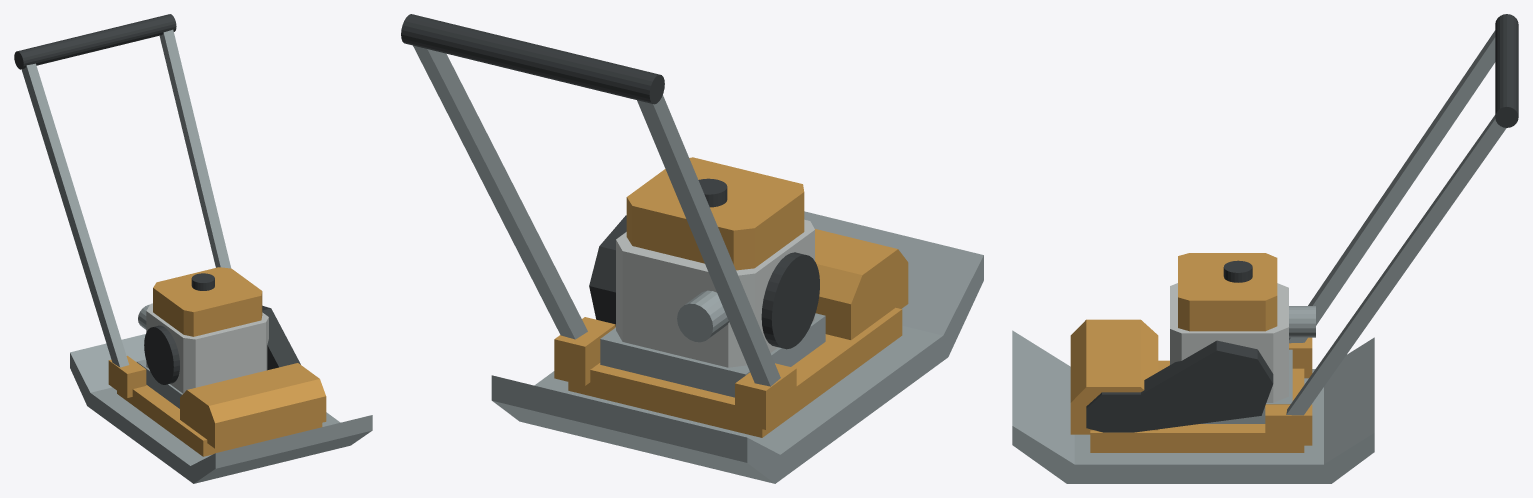
3 views of the same model, side by side, from view 1: azimuth 30°, elevation 25°; view 2: azimuth 150°, elevation 25°; view 3: azimuth 270°, elevation 25° (orthographic). The views are drawn at different scales.
Visible parts, largest first — view 1: WholeUpturnedGroundPlate, WholeFrontExciterHood, WholeTopTankExterior, WholeFacetedEngineExterior, WholeInclinedHandleSide-1, WholeInclinedHandleSide1, WholeTransversePushGrip, WholeLowMountingDeck, WholeInsetRecoilCover, WholeObliqueSideDriveCover, WholeRearHandleFoot-1, WholeRearEngineMount; view 2: WholeUpturnedGroundPlate, WholeTopTankExterior, WholeFacetedEngineExterior, WholeLowMountingDeck, WholeInclinedHandleSide1, WholeTransversePushGrip, WholeInclinedHandleSide-1, WholeFrontExciterHood, WholeRearEngineMount, WholeInsetRecoilCover, WholeRearHandleFoot-1, WholeRearHandleFoot1 (+3 smaller); view 3: WholeUpturnedGroundPlate, WholeObliqueSideDriveCover, WholeTopTankExterior, WholeFrontExciterHood, WholeInclinedHandleSide1, WholeInclinedHandleSide-1, WholeLowMountingDeck, WholeFacetedEngineExterior, WholeTransversePushGrip, WholeRearHandleFoot1, WholeShortExhaustExterior, WholeRearHandleFoot-1 (+2 smaller).
Boxes of the visible parts, x1,y1,x2,y2 form: WholeUpturnedGroundPlate: [70, 334, 372, 483]; WholeFrontExciterHood: [180, 363, 326, 448]; WholeTopTankExterior: [153, 267, 262, 336]; WholeFacetedEngineExterior: [146, 303, 268, 393]; WholeInclinedHandleSide-1: [21, 63, 129, 367]; WholeInclinedHandleSide1: [159, 29, 231, 268]; WholeTransversePushGrip: [14, 14, 176, 69]; WholeLowMountingDeck: [117, 385, 322, 456]; WholeInsetRecoilCover: [144, 325, 179, 384]; WholeObliqueSideDriveCover: [262, 305, 300, 370]; WholeRearHandleFoot-1: [108, 355, 146, 397]; WholeRearEngineMount: [137, 359, 182, 408]; WholeUpturnedGroundPlate: [491, 211, 983, 483]; WholeTopTankExterior: [626, 157, 804, 270]; WholeFacetedEngineExterior: [616, 219, 814, 367]; WholeLowMountingDeck: [568, 307, 902, 437]; WholeInclinedHandleSide1: [413, 45, 587, 339]; WholeTransversePushGrip: [401, 14, 664, 104]; WholeInclinedHandleSide-1: [637, 95, 780, 386]; WholeFrontExciterHood: [815, 229, 908, 339]; WholeRearEngineMount: [600, 313, 825, 397]; WholeInsetRecoilCover: [761, 252, 819, 349]; WholeRearHandleFoot-1: [735, 363, 796, 429]; WholeRearHandleFoot1: [554, 317, 615, 385]; WholeUpturnedGroundPlate: [1012, 330, 1374, 483]; WholeObliqueSideDriveCover: [1086, 340, 1273, 432]; WholeTopTankExterior: [1178, 253, 1277, 331]; WholeFrontExciterHood: [1070, 319, 1158, 434]; WholeInclinedHandleSide1: [1286, 115, 1506, 415]; WholeInclinedHandleSide-1: [1289, 30, 1495, 343]; WholeLowMountingDeck: [1090, 360, 1304, 452]; WholeFacetedEngineExterior: [1170, 283, 1288, 402]; WholeTransversePushGrip: [1495, 14, 1518, 127]; WholeRearHandleFoot1: [1265, 404, 1312, 445]; WholeShortExhaustExterior: [1289, 306, 1315, 337]; WholeRearHandleFoot-1: [1289, 337, 1312, 378].
Size of the model in its own units: 0.58 by 1.07 by 1.3.
